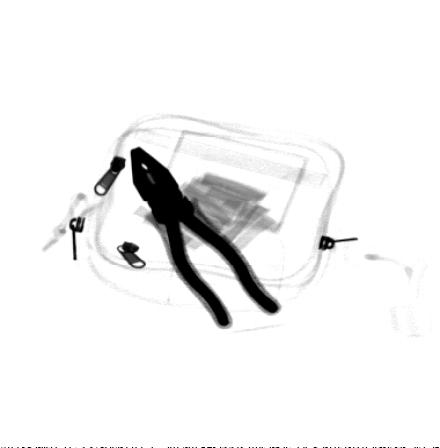Pliers: (130, 146, 282, 329)
